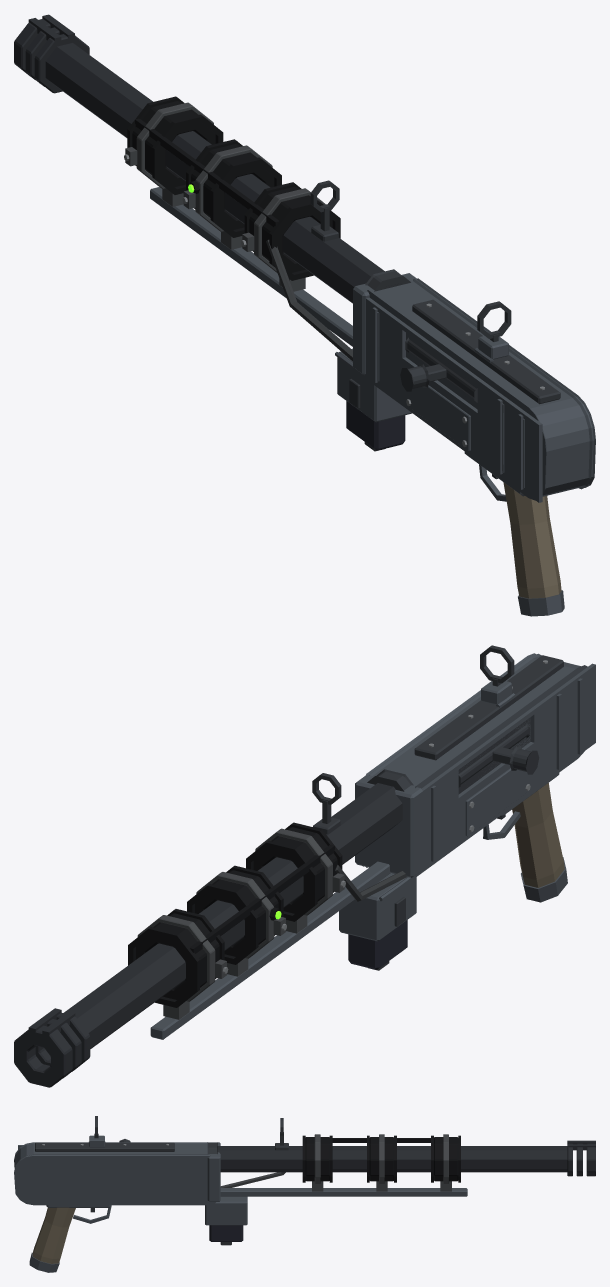
File: sightline_a.glb
The picture shows the model from 3 angles, top to bottom: view 1: azimuth 30°, elevation 25°; view 2: azimuth 150°, elevation 25°; view 3: azimuth 270°, elevation 25°; orthographic projection. The views are drawn at different scales.
Visible parts, largest first — view 1: Body, Handle; view 2: Body, Handle; view 3: Body.
Boxes of the visible parts, x1=… form: Body: x1=14, y1=14, x2=595, y2=616; Handle: x1=400, y1=337, x2=477, y2=402; Body: x1=14, y1=645, x2=595, y2=1087; Handle: x1=458, y1=723, x2=539, y2=787; Body: x1=14, y1=1116, x2=595, y2=1272.
Bounding box in the file's own units: 0.0868 × 0.2359 × 0.8155.
